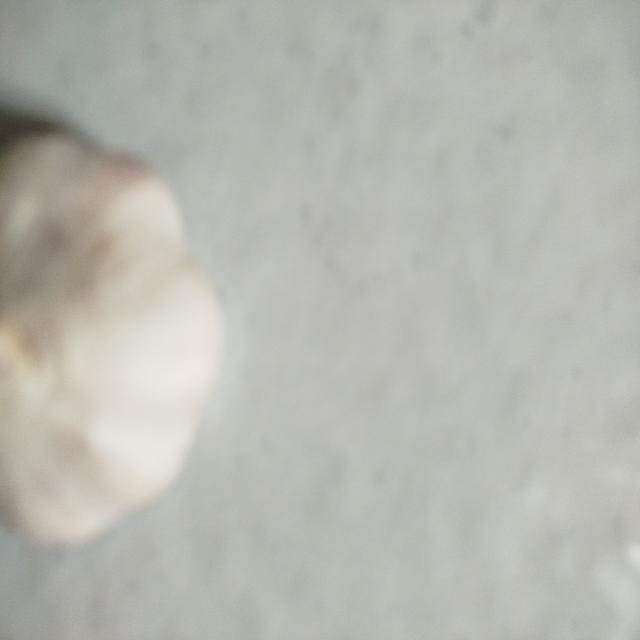garlic: (1, 108, 226, 548)
